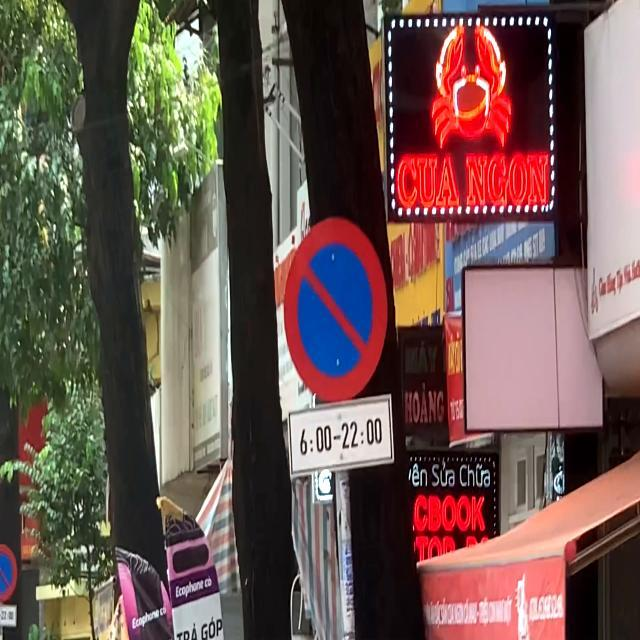P-131a: (284, 219, 391, 402)
